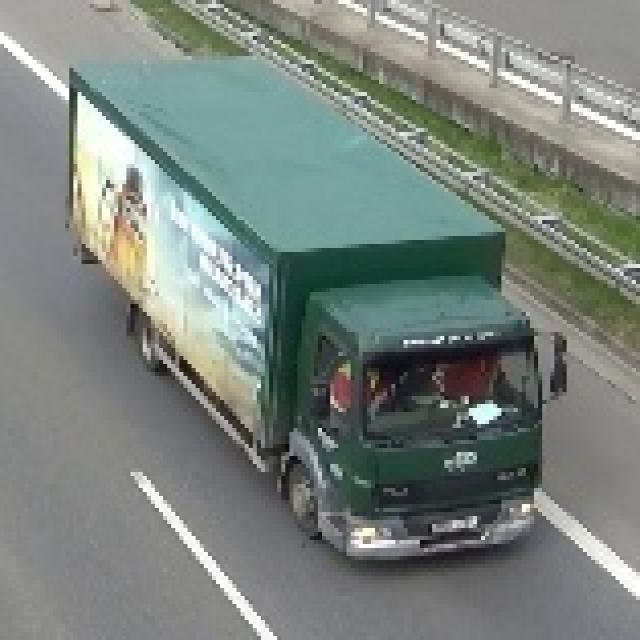truck: (65, 56, 563, 556)
